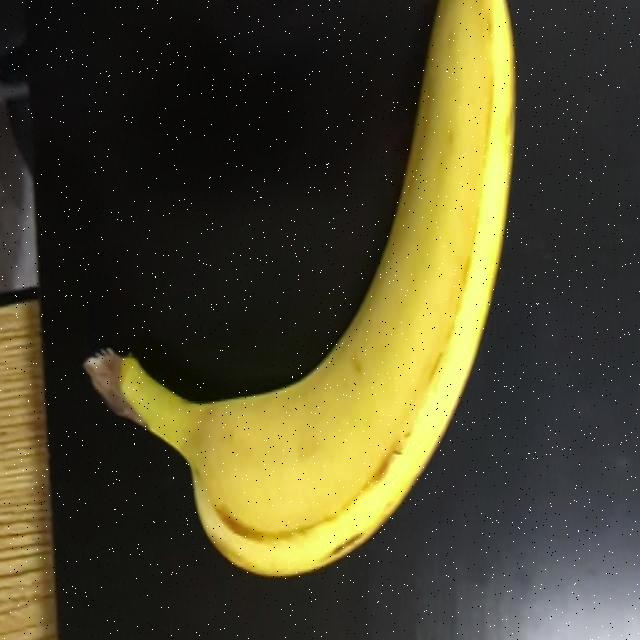Pisang: (69, 29, 565, 586)
